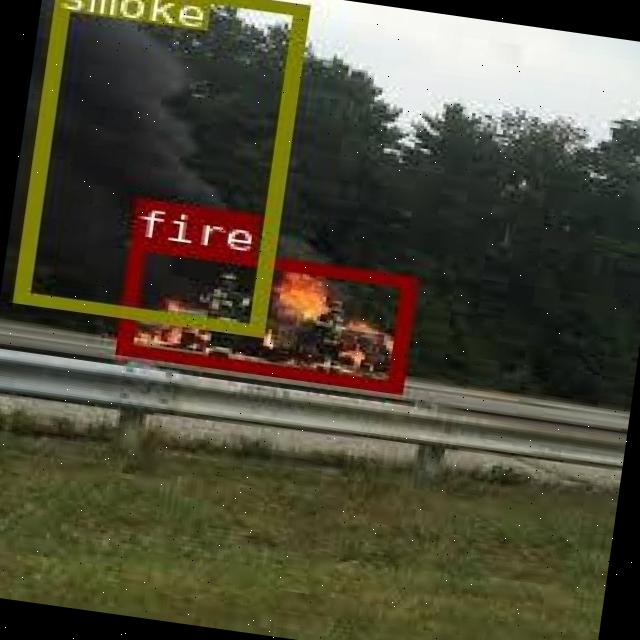fire: (113, 236, 415, 390)
smoke: (11, 0, 307, 334)
